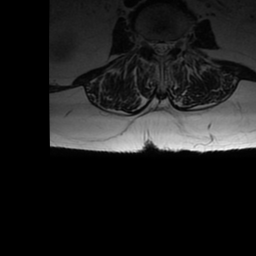CCS_normal: (159, 35, 164, 61)
LFS_normal: (171, 34, 178, 54)
LLS_normal: (164, 36, 170, 56)
RFS_normal: (144, 34, 151, 53)
RLS_normal: (152, 35, 158, 57)
